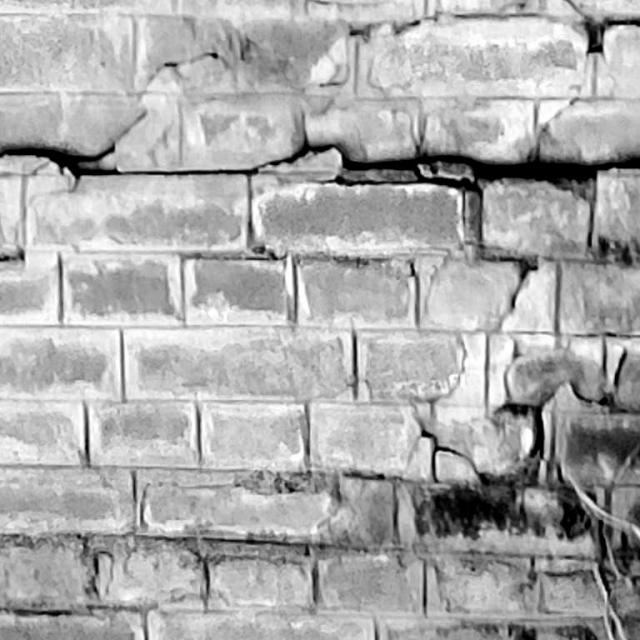crack: (1, 1, 640, 197), (501, 266, 627, 458), (421, 430, 487, 483)
